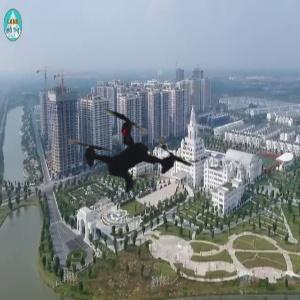drone: (44, 66, 220, 242)
